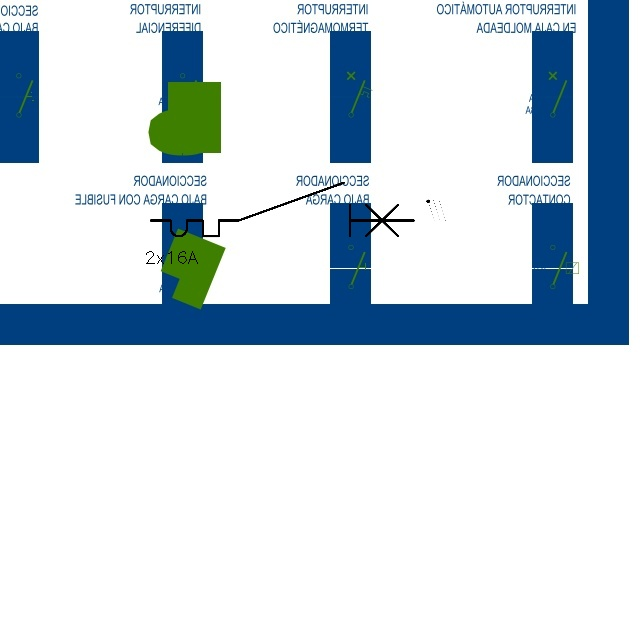interruptor_termomagnetico: (144, 176, 420, 243)
